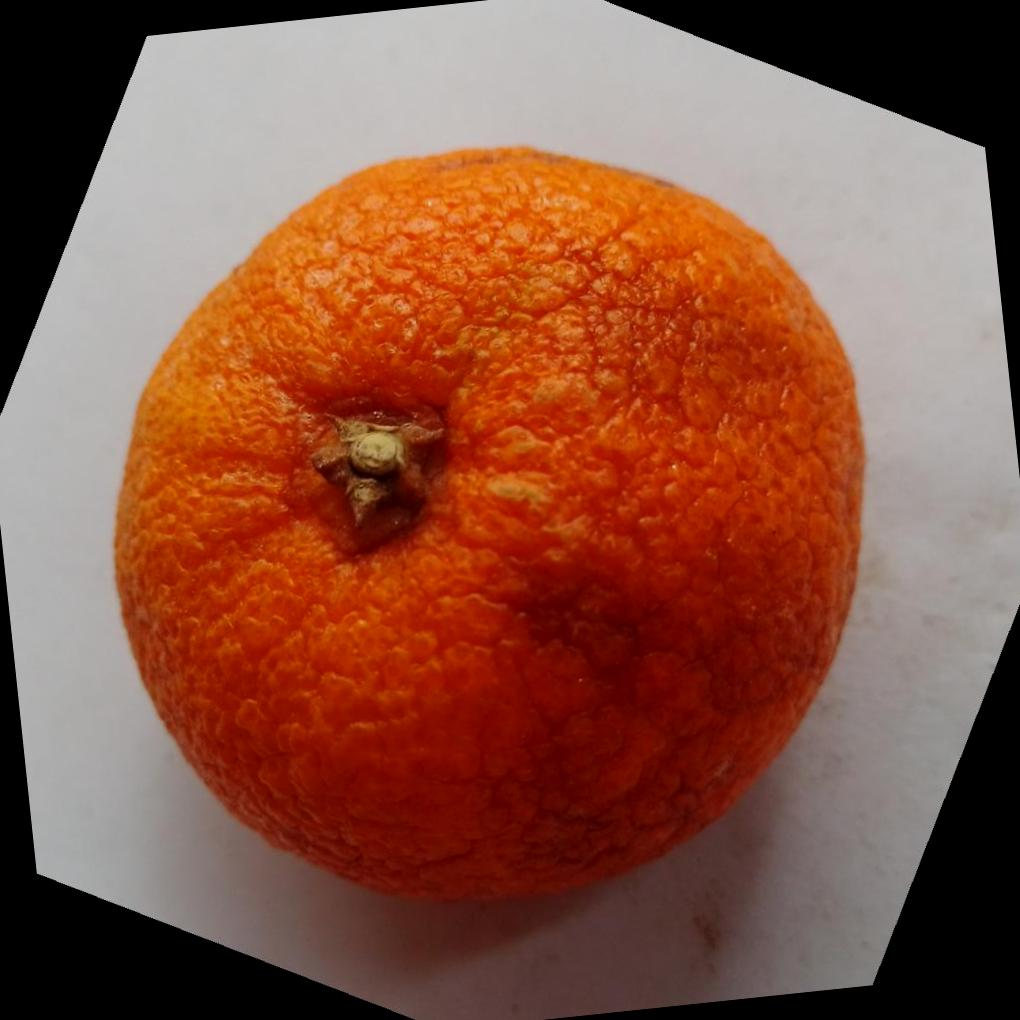FreshOrange: (105, 144, 864, 905)
